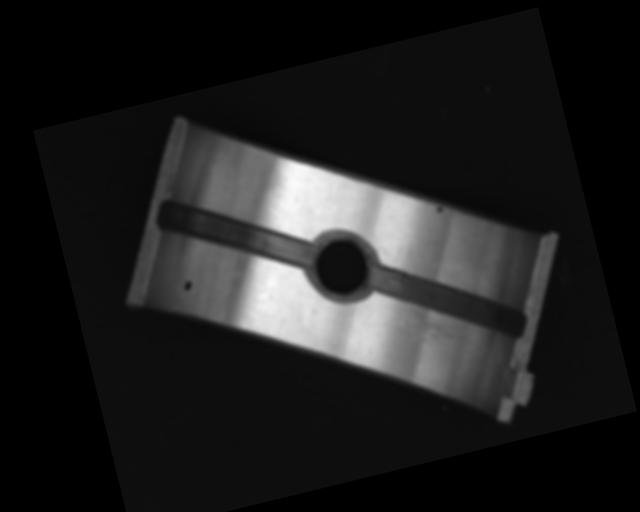blot: (181, 278, 194, 292), (434, 204, 446, 214)
gap: (367, 231, 530, 368), (157, 170, 315, 296)
hole: (302, 224, 381, 307)
scratch: (397, 287, 476, 361)
